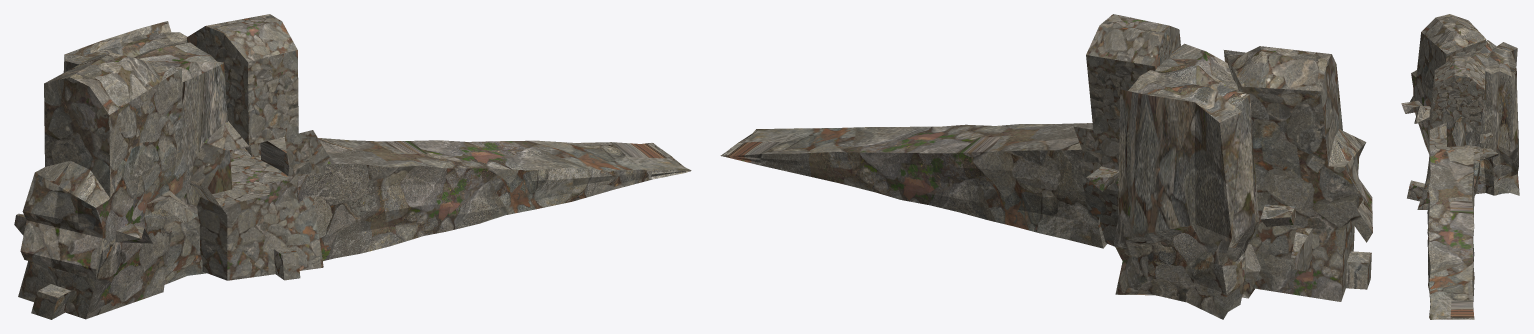
The model's file is Reichenbach cliff.fbx.
The picture shows the model from 3 angles, left to right: view 1: azimuth 30°, elevation 25°; view 2: azimuth 150°, elevation 25°; view 3: azimuth 270°, elevation 25°; orthographic projection. The views are drawn at different scales.
Parts seen in each view (by area): view 1: Cube.001, Cube.003, Cube, Cube.002; view 2: Cube.002, Cube.003, Cube.001, Cube; view 3: Cube.003, Cube.002, Cube, Cube.001.
Part boxes in pixels (<box>): Cube.001: <box>14,52,197,319</box>; Cube.003: <box>260,137,691,260</box>; Cube: <box>187,14,329,280</box>; Cube.002: <box>63,21,232,284</box>; Cube.002: <box>1114,43,1260,319</box>; Cube.003: <box>720,123,1106,248</box>; Cube.001: <box>1224,46,1372,301</box>; Cube: <box>1074,14,1180,246</box>; Cube.003: <box>1427,147,1474,319</box>; Cube.002: <box>1446,40,1519,195</box>; Cube: <box>1407,56,1498,209</box>; Cube.001: <box>1401,14,1486,153</box>.
Size of the model in its own units: 50081 by 17351 by 13478.
